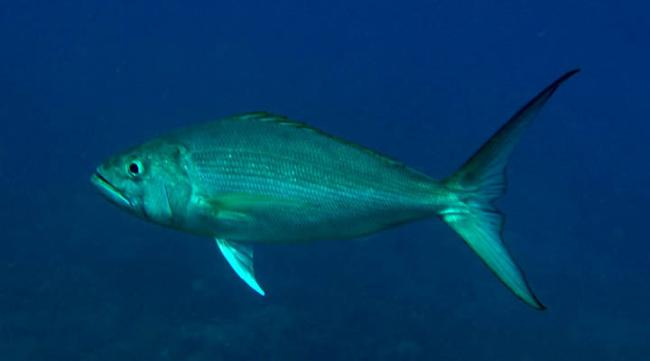fish: (88, 68, 581, 311)
